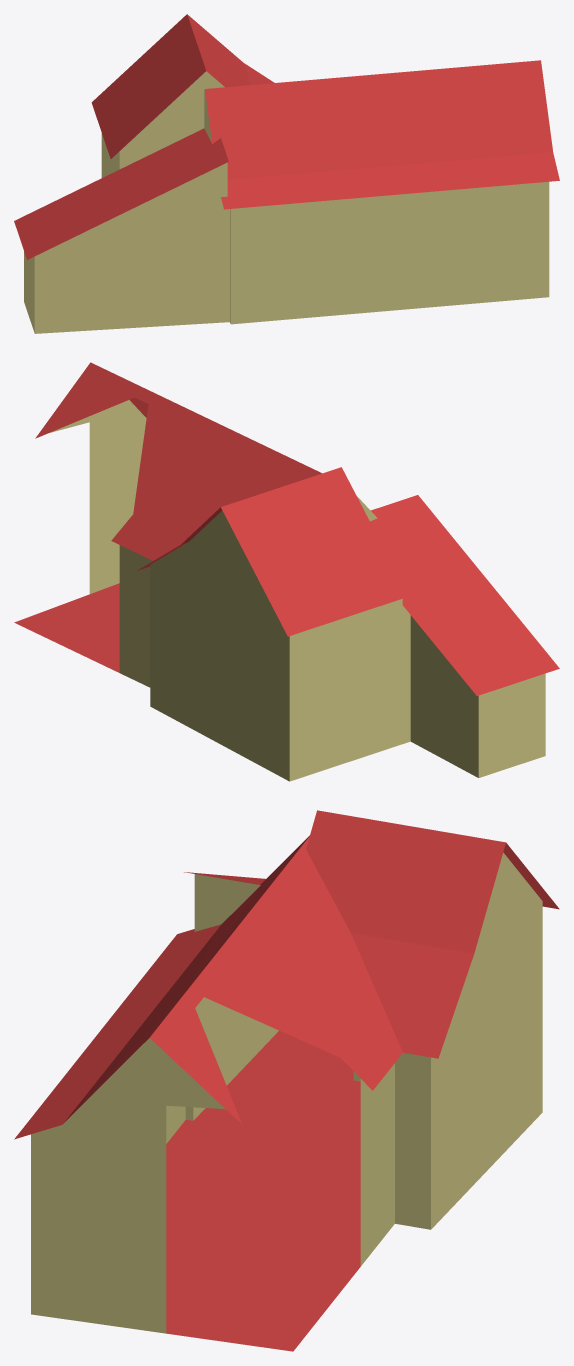
3 views of the same model, one above another, from view 1: azimuth 30°, elevation 25°; view 2: azimuth 150°, elevation 25°; view 3: azimuth 270°, elevation 25° (orthographic). The views are drawn at different scales.
Bounding box in the file's own units: 31.21 × 20.36 × 13.32.
